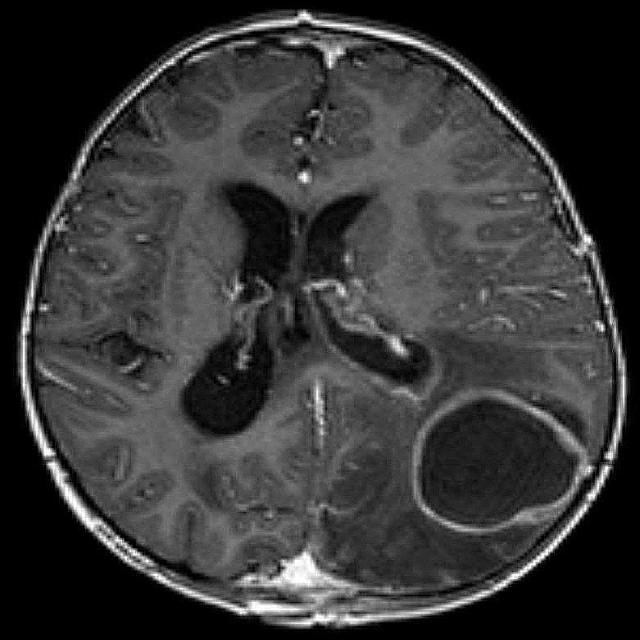Tumor-Cell: (419, 369, 603, 526)
